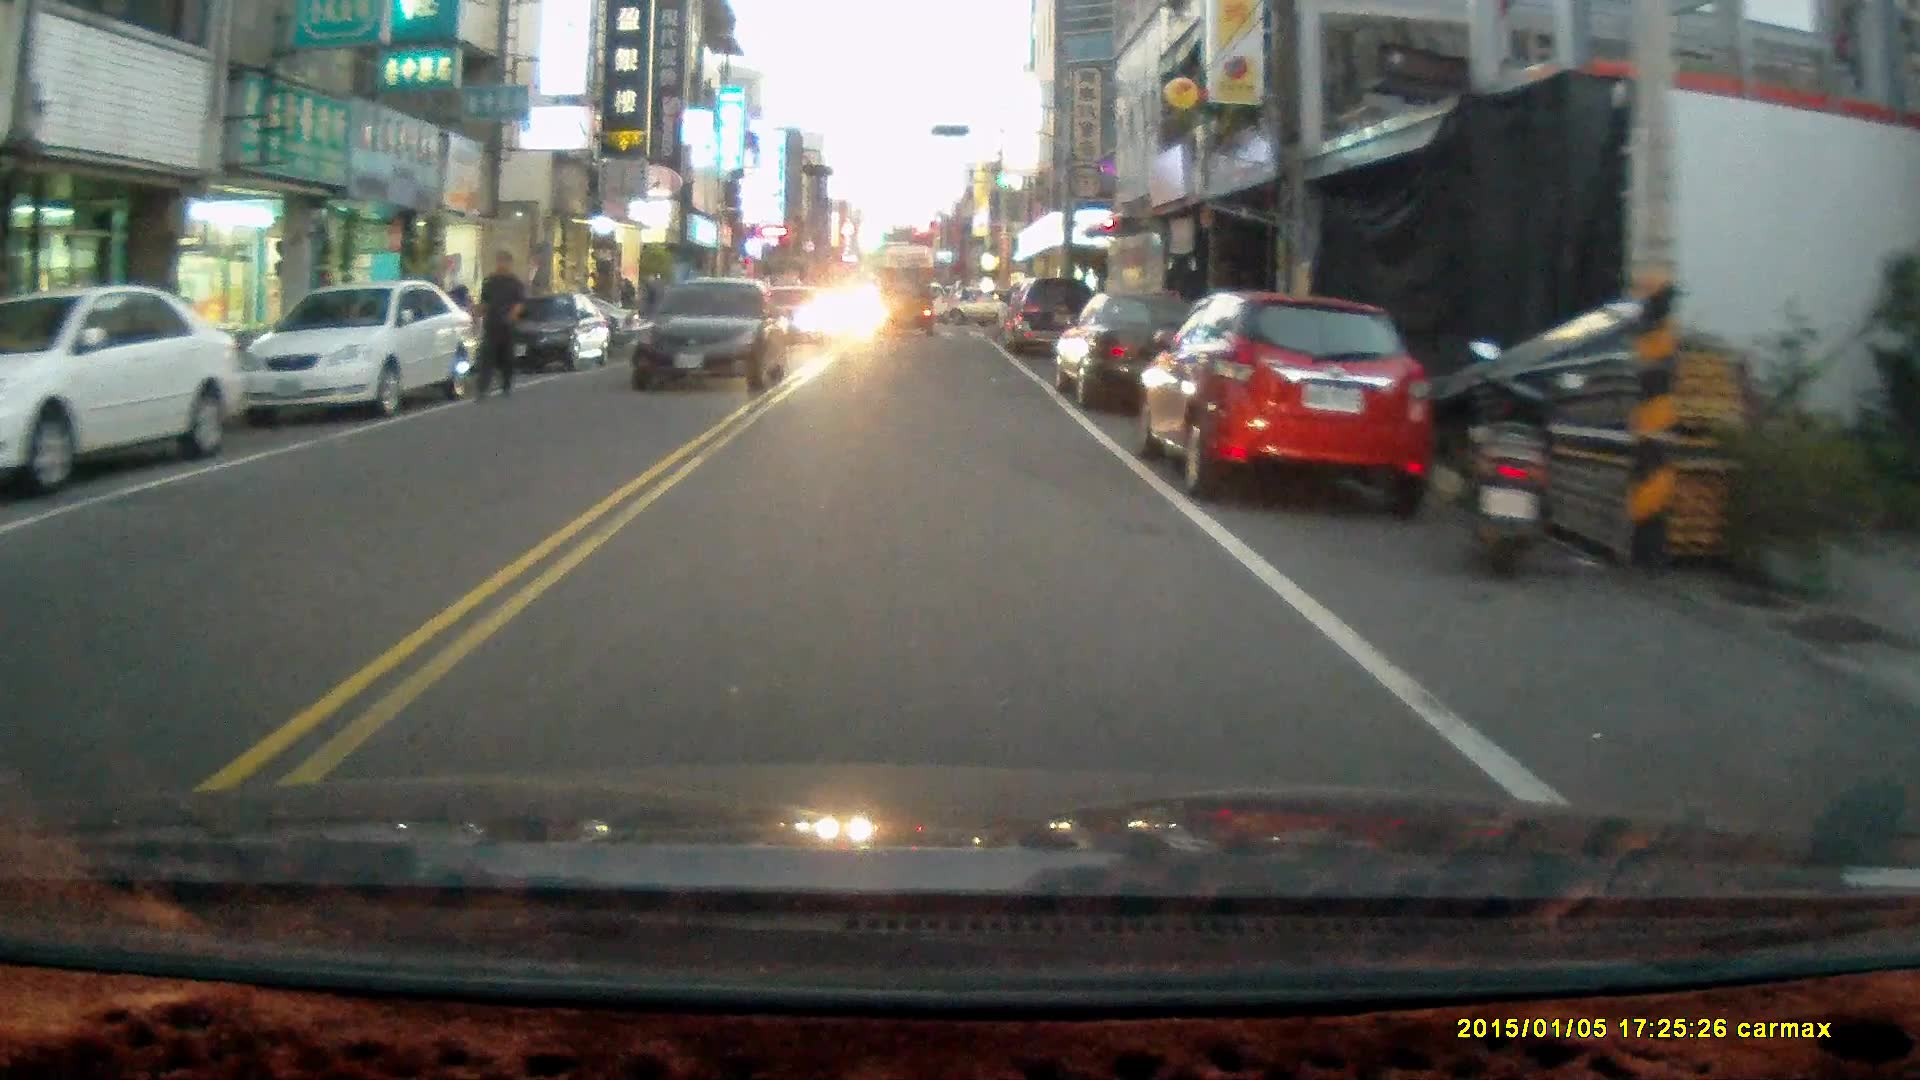pedestrian: (468, 251, 525, 402)
vehicle: (1142, 297, 1439, 512), (1, 286, 249, 497), (243, 283, 483, 424), (1053, 291, 1219, 416), (628, 276, 793, 398), (493, 290, 610, 379), (995, 275, 1106, 363), (873, 264, 937, 335)
